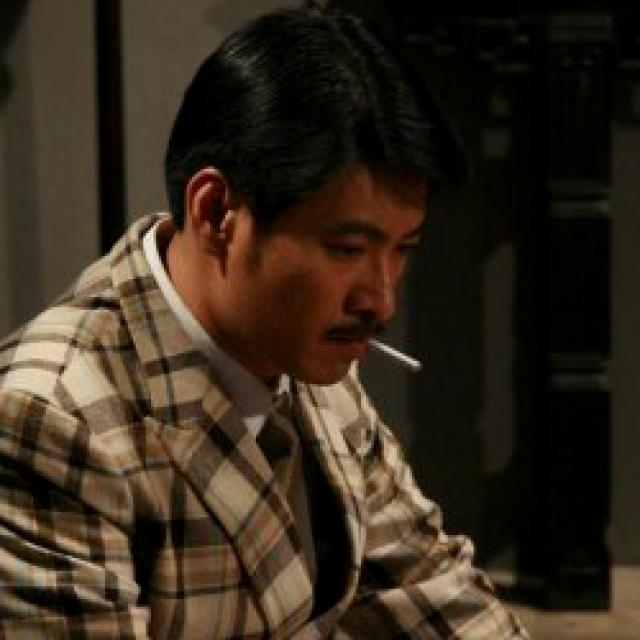Smooking: (372, 329, 426, 378)
